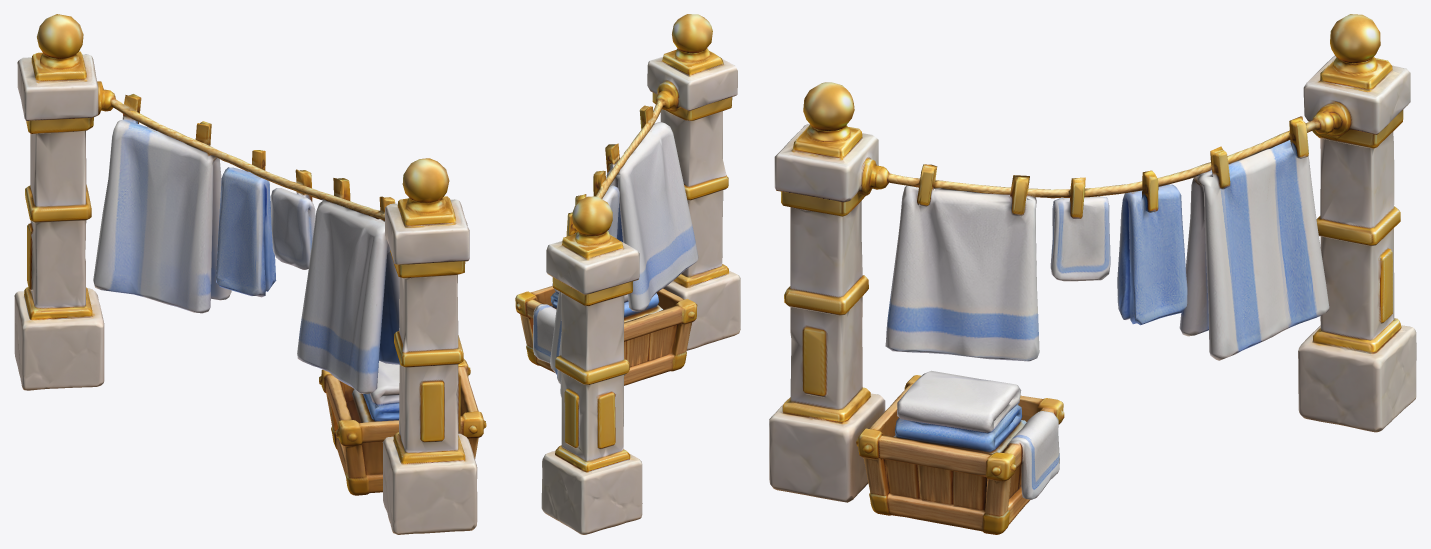
The model's file is HaloReasonHQ_Clothesline_HD_src.glb.
3 views of the same model, side by side, from view 1: azimuth 30°, elevation 25°; view 2: azimuth 150°, elevation 25°; view 3: azimuth 270°, elevation 25° (orthographic). The views are drawn at different scales.
Parts seen in each view (by area): view 1: tripo_node_c15cee27-78a2-4821-9a0b-d5bfd97847ce; view 2: tripo_node_c15cee27-78a2-4821-9a0b-d5bfd97847ce; view 3: tripo_node_c15cee27-78a2-4821-9a0b-d5bfd97847ce.
Part boxes in pixels (x1,y1,x2,y2): tripo_node_c15cee27-78a2-4821-9a0b-d5bfd97847ce: (14, 14, 486, 534); tripo_node_c15cee27-78a2-4821-9a0b-d5bfd97847ce: (515, 14, 740, 534); tripo_node_c15cee27-78a2-4821-9a0b-d5bfd97847ce: (769, 14, 1416, 534).
Bounding box in the file's own units: 0.5656 × 0.6608 × 0.9792.
Materials: 1 (1 with a texture image).
